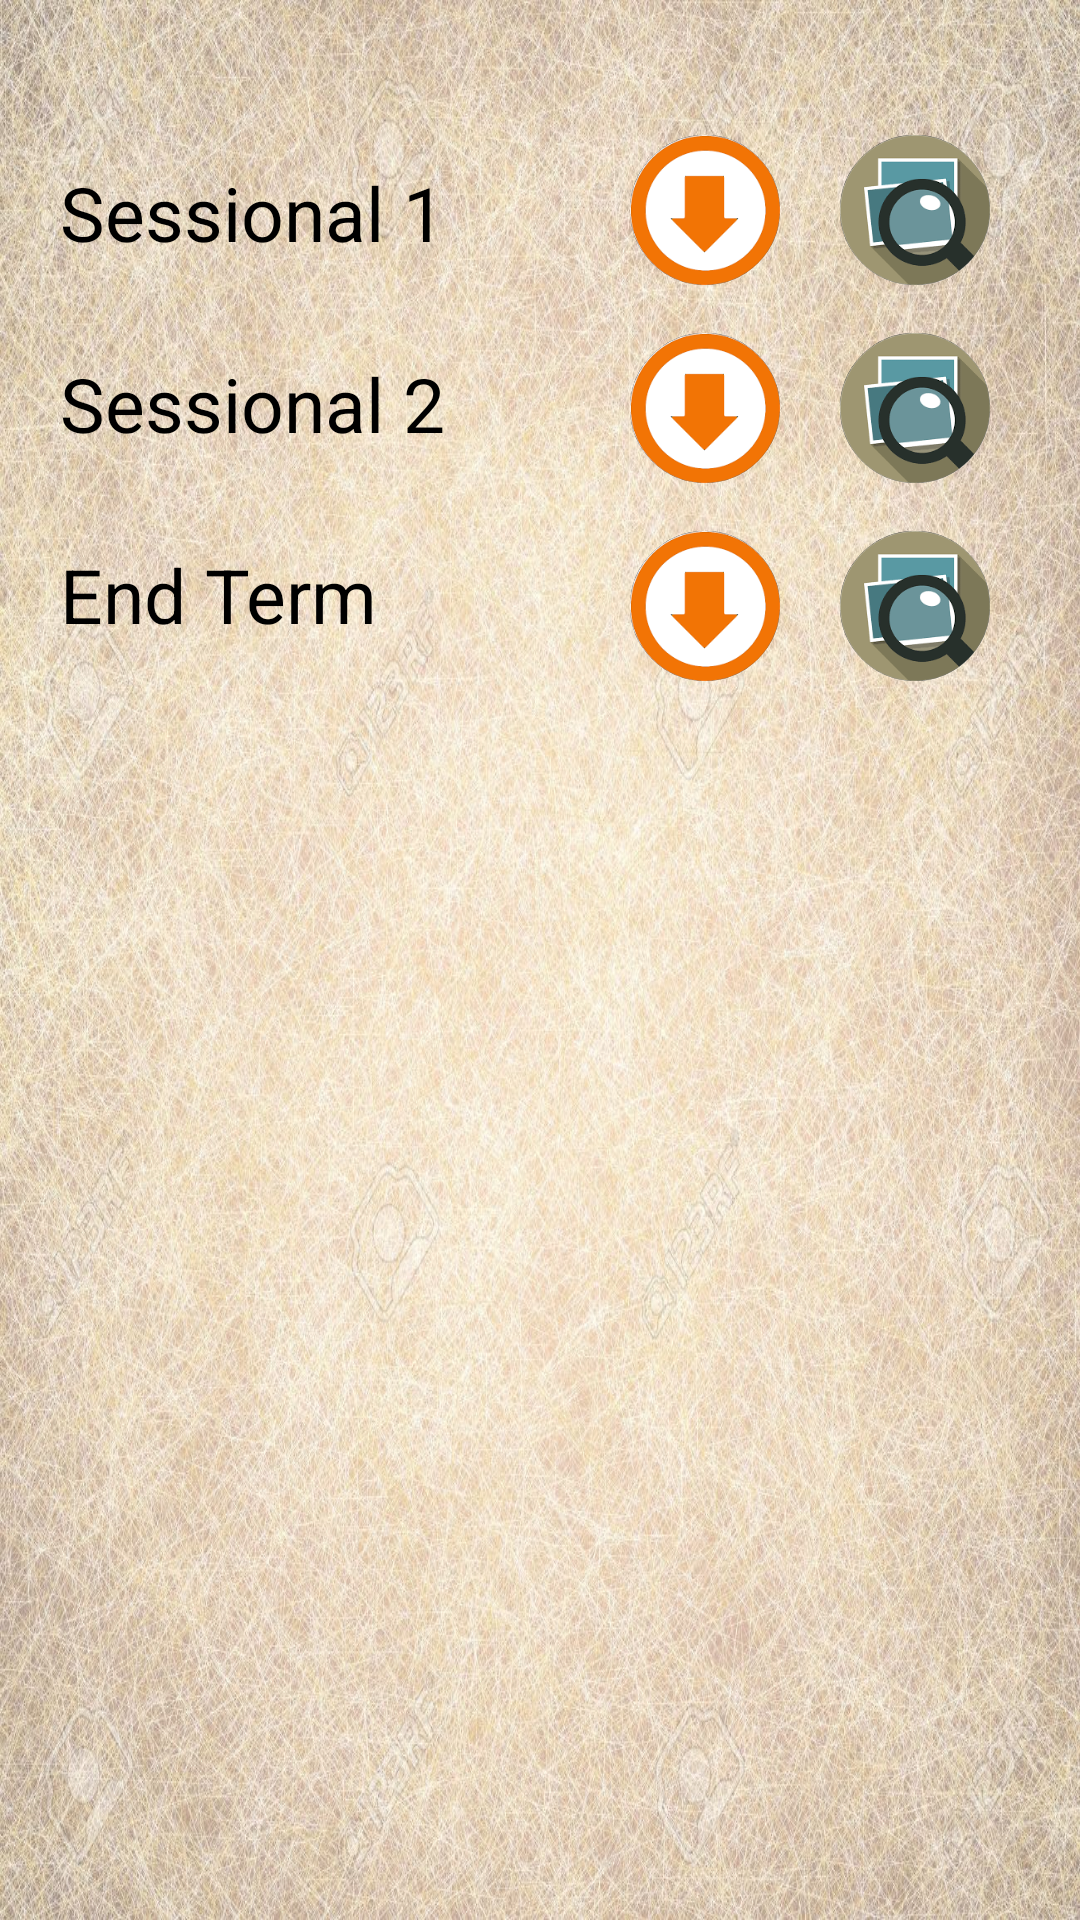

Point at icon controls on the screen. Image size 1080 × 1920, points as (x,y).
download: (705,210), (705,408), (705,606)
